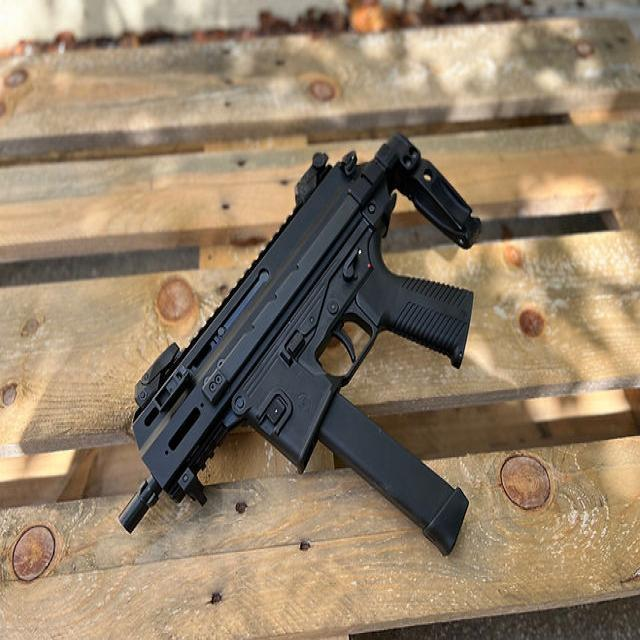SMG: (119, 136, 485, 558)
